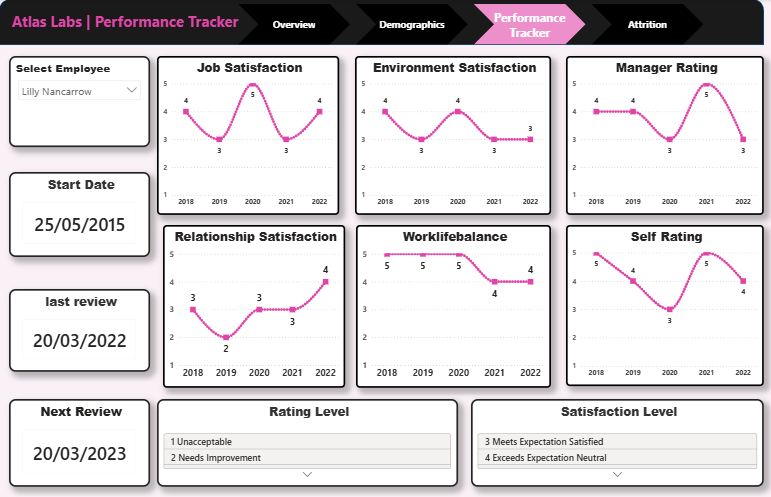

The dashboard page shown, as its layout file describes it:
{"tool":"powerbi","page":{"name":"Performance Tracker","canvas":[1400,900],"ordinal":2},"visuals":[{"type":"shape","box":[0,0,1377,82.8],"z":0},{"type":"textbox","box":[18.7,8.6,433.4,73.4],"z":1000},{"type":"pageNavigator","box":[430.6,8.6,839.5,73.4],"z":2000},{"type":"slicer","title":"Select Employee","fields":{"Values":["DimEmployee.Ful Name"]},"box":[18,102.6,253.8,163.8],"z":3000},{"type":"cardVisual","title":"Start Date","fields":{"Data":["Min(DimEmployee.HireDate)"]},"box":[18,311.4,253.8,153],"z":4000},{"type":"cardVisual","title":"Next Review","fields":{"Data":["_Measure.Next Review Date"]},"box":[18,720,253.8,158.4],"z":5000},{"type":"cardVisual","title":"last review","fields":{"Data":["_Measure.Last Review Date"]},"box":[18,522,253.8,149.4],"z":6000},{"type":"lineChart","title":"Job Satisfaction ","fields":{"Y":["_Measure.Job Satisfaction"],"Category":["DimDate.Date.Variation.Date Hierarchy.Year"]},"box":[284.4,102.6,327.6,286.2],"z":7000},{"type":"lineChart","title":"Environment Satisfaction","fields":{"Y":["_Measure.Environment Satisfaction"],"Category":["DimDate.Date.Variation.Date Hierarchy.Year"]},"box":[640.8,102.6,352.8,286.2],"z":8000},{"type":"lineChart","title":"Relationship Satisfaction","fields":{"Y":["_Measure.Relationship"],"Category":["DimDate.Date.Variation.Date Hierarchy.Year"]},"box":[295.2,406.8,327.6,293.4],"z":9000},{"type":"lineChart","title":"Worklifebalance ","fields":{"Y":["_Measure.Worklifebalance"],"Category":["DimDate.Date.Variation.Date Hierarchy.Year"]},"box":[642.6,406.8,351,293.4],"z":10000},{"type":"lineChart","title":"Manager Rating","fields":{"Y":["_Measure.ManagerRating"],"Category":["DimDate.Date.Variation.Date Hierarchy.Year"]},"box":[1020.6,102.6,356.4,286.2],"z":11000},{"type":"lineChart","title":"Self Rating","fields":{"Category":["DimDate.Date.Variation.Date Hierarchy.Year"],"Y":["_Measure.SelfRating"]},"box":[1020.6,406.8,356.4,289.8],"z":12000},{"type":"cardVisual","title":"Rating Level","fields":{"Rows":["DimRatingLevel.RatingID","DimRatingLevel.RatingLevel"]},"box":[284.4,720,541.8,158.4],"z":13000},{"type":"cardVisual","title":"Satisfaction Level","fields":{"Rows":["DimRatingLevel.RatingID","DimRatingLevel.RatingLevel","DimSatisfiedLevel.SatisfactionLevel"]},"box":[849.6,720,527.4,158.4],"z":14000}]}

Visuals, with their boxes in screenshot pixels (x1, y1, x2, y2), scaled from the page's 1400x900 canvas onto the 771x497 screenshot:
shape: <bbox>0, 0, 758, 46</bbox>
textbox: <bbox>10, 5, 249, 45</bbox>
pageNavigator: <bbox>237, 5, 699, 45</bbox>
"Select Employee" slicer: <bbox>10, 57, 150, 147</bbox>
"Start Date" cardVisual: <bbox>10, 172, 150, 256</bbox>
"Next Review" cardVisual: <bbox>10, 398, 150, 485</bbox>
"last review" cardVisual: <bbox>10, 288, 150, 371</bbox>
"Job Satisfaction " lineChart: <bbox>157, 57, 337, 215</bbox>
"Environment Satisfaction" lineChart: <bbox>353, 57, 547, 215</bbox>
"Relationship Satisfaction" lineChart: <bbox>163, 225, 343, 387</bbox>
"Worklifebalance " lineChart: <bbox>354, 225, 547, 387</bbox>
"Manager Rating" lineChart: <bbox>562, 57, 758, 215</bbox>
"Self Rating" lineChart: <bbox>562, 225, 758, 385</bbox>
"Rating Level" cardVisual: <bbox>157, 398, 455, 485</bbox>
"Satisfaction Level" cardVisual: <bbox>468, 398, 758, 485</bbox>
